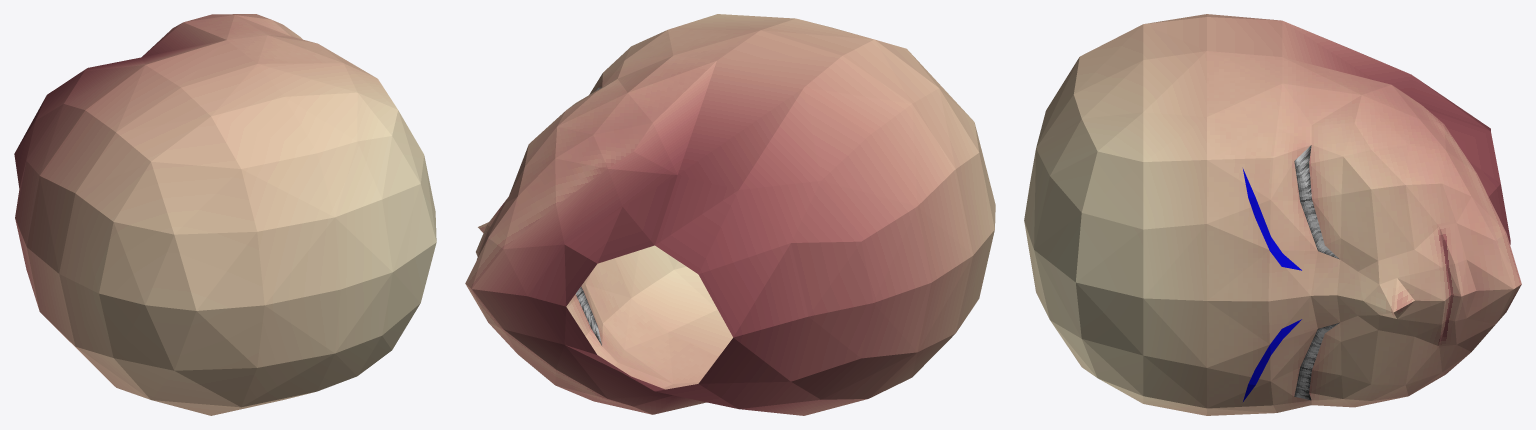
Rendered from Npc_60110.obj.
3 views of the same model, side by side, from view 1: azimuth 30°, elevation 25°; view 2: azimuth 150°, elevation 25°; view 3: azimuth 270°, elevation 25° (orthographic). The views are drawn at different scales.
Visible parts, largest first — view 1: Npc_60110; view 2: Npc_60110; view 3: Npc_60110.
Part boxes in pixels (left/top/right/bottom): Npc_60110: left=14, top=14, right=436, bottom=415; Npc_60110: left=465, top=14, right=995, bottom=415; Npc_60110: left=1024, top=14, right=1521, bottom=415.
Bounding box in the file's own units: 0.4138 × 0.342 × 0.451.
2 materials, 1 textured.
